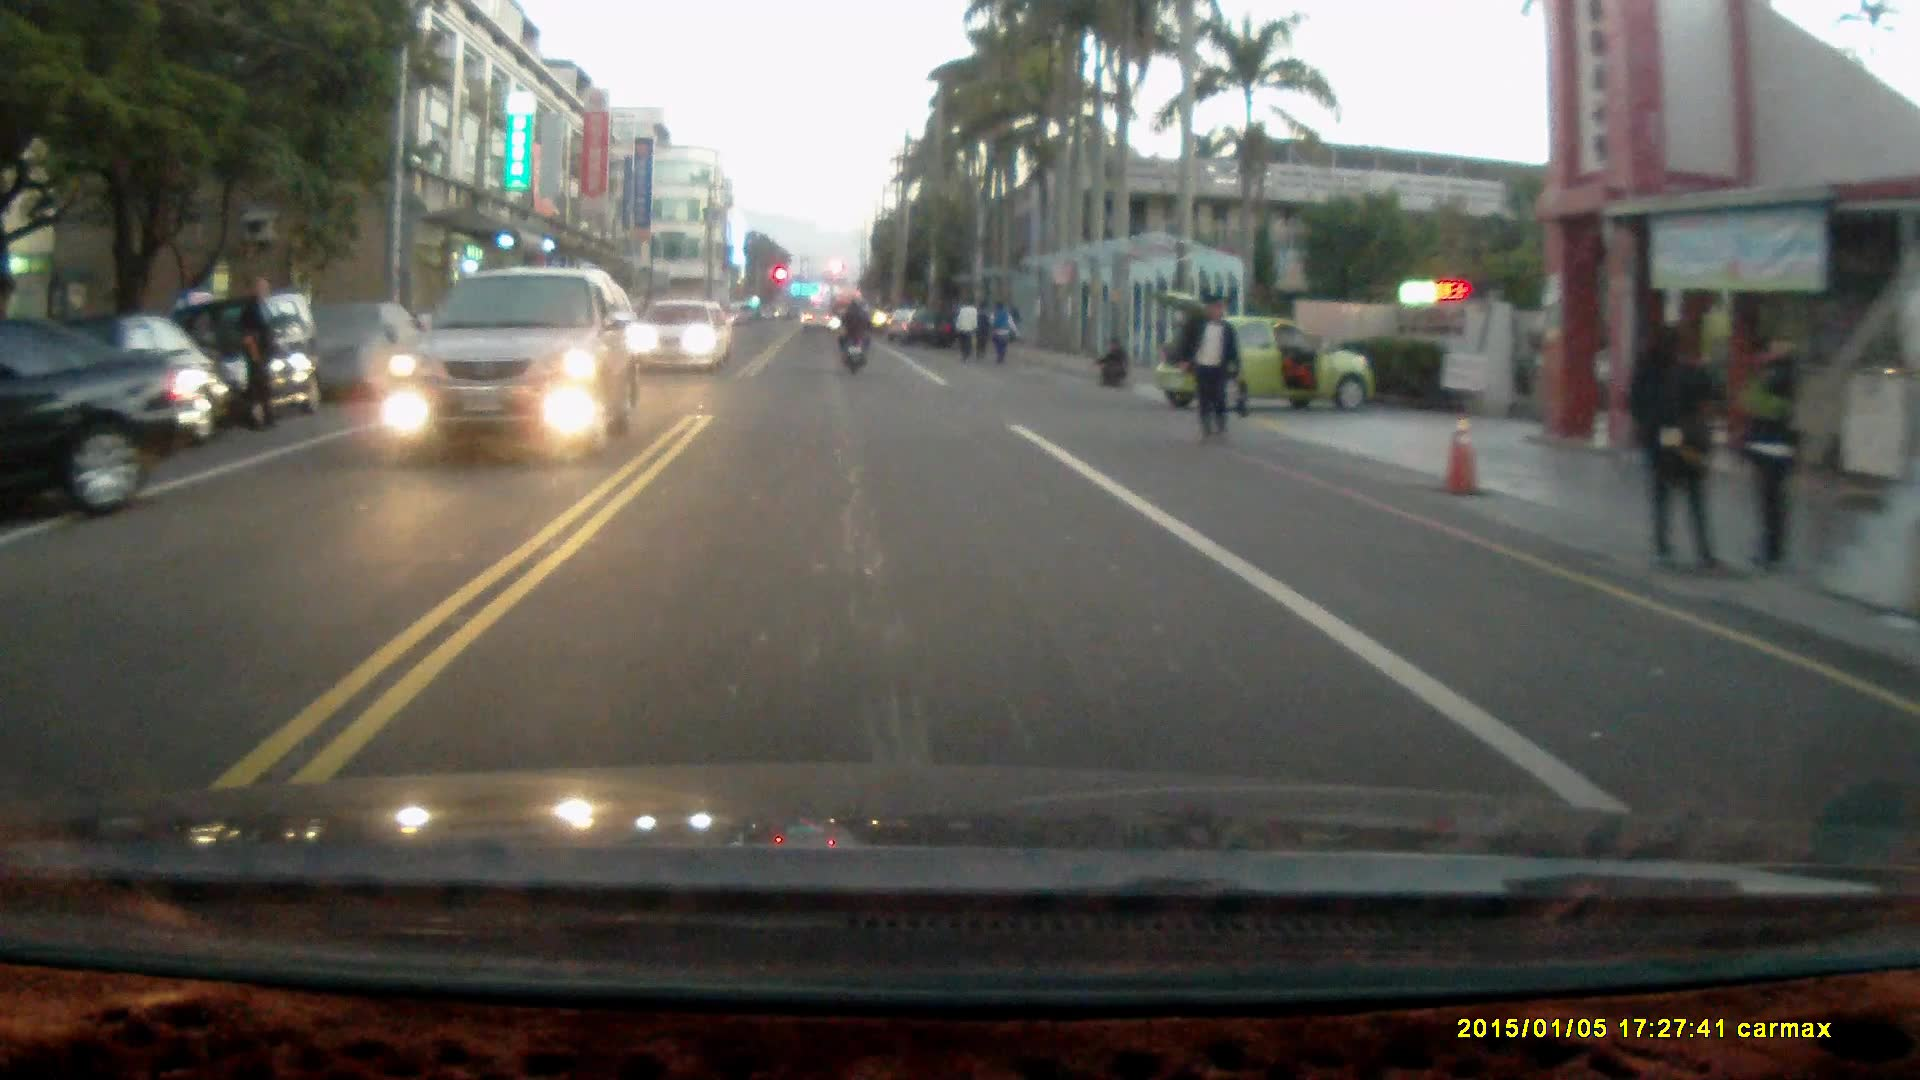pedestrian: (1619, 319, 1732, 584), (1738, 326, 1798, 576), (1178, 289, 1240, 446), (988, 295, 1014, 365), (1095, 332, 1128, 388), (956, 295, 978, 365), (973, 300, 993, 364)
rider: (834, 295, 873, 375)
vehicle: (393, 268, 642, 458), (0, 312, 204, 536), (1151, 291, 1382, 414), (174, 296, 330, 425), (635, 302, 736, 378)
